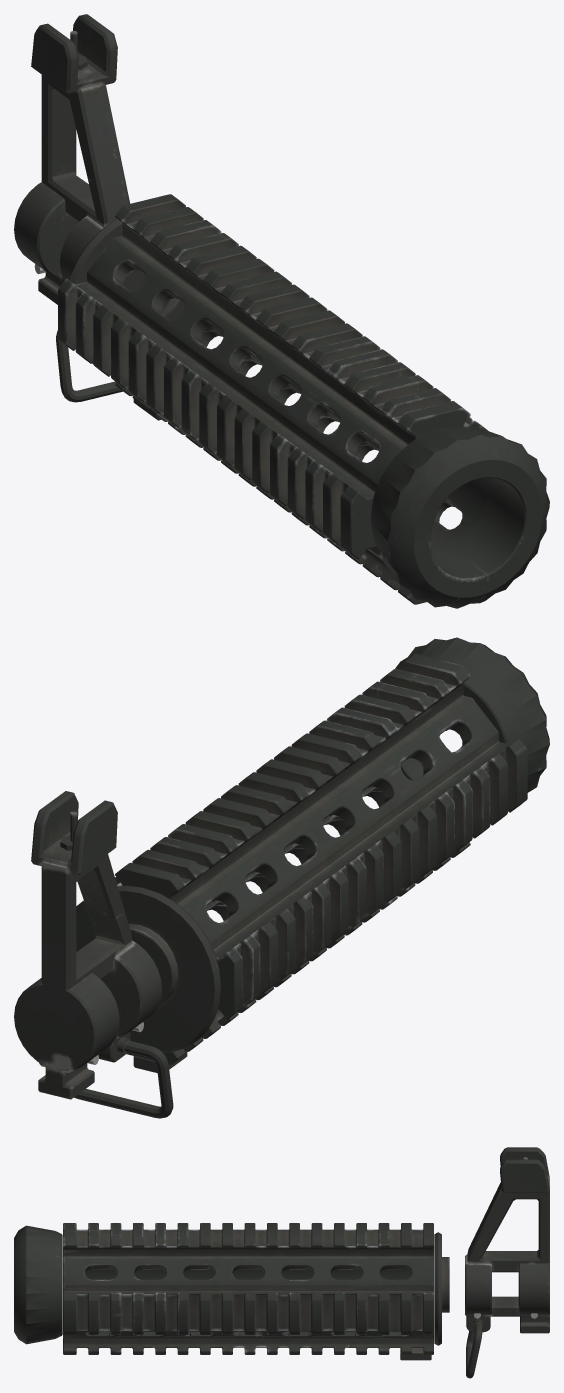
Rendered from guarda_mao_classico_m4.glb.
3 renders of one model, top to bottom at view 1: azimuth 30°, elevation 25°; view 2: azimuth 150°, elevation 25°; view 3: azimuth 270°, elevation 25°, orthographic. The views are drawn at different scales.
Parts seen in each view (by area): view 1: guarda_mao_classico_m4_guarda_mao_superior, guarda_mao_classico_m4_anel_delta, guarda_mao_classico_m4_base_massa, guarda_mao_classico_m4_guarda_mao_inferior, guarda_mao_classico_m4_tampa_guarda_mao, guarda_mao_classico_m4_zarelho_frontal; view 2: guarda_mao_classico_m4_guarda_mao_superior, guarda_mao_classico_m4_base_massa, guarda_mao_classico_m4_tampa_guarda_mao, guarda_mao_classico_m4_anel_delta, guarda_mao_classico_m4_guarda_mao_inferior, guarda_mao_classico_m4_zarelho_frontal; view 3: guarda_mao_classico_m4_guarda_mao_superior, guarda_mao_classico_m4_base_massa, guarda_mao_classico_m4_guarda_mao_inferior, guarda_mao_classico_m4_anel_delta, guarda_mao_classico_m4_tampa_guarda_mao, guarda_mao_classico_m4_zarelho_frontal.
Part boxes in pixels (bbox=[...]): guarda_mao_classico_m4_guarda_mao_superior: bbox=[58, 194, 488, 559]; guarda_mao_classico_m4_anel_delta: bbox=[371, 425, 549, 608]; guarda_mao_classico_m4_base_massa: bbox=[14, 14, 130, 304]; guarda_mao_classico_m4_guarda_mao_inferior: bbox=[115, 331, 472, 604]; guarda_mao_classico_m4_tampa_guarda_mao: bbox=[69, 219, 184, 363]; guarda_mao_classico_m4_zarelho_frontal: bbox=[56, 330, 122, 402]; guarda_mao_classico_m4_guarda_mao_superior: bbox=[76, 654, 527, 1019]; guarda_mao_classico_m4_base_massa: bbox=[14, 791, 161, 1099]; guarda_mao_classico_m4_tampa_guarda_mao: bbox=[76, 885, 220, 1052]; guarda_mao_classico_m4_anel_delta: bbox=[395, 637, 549, 792]; guarda_mao_classico_m4_guarda_mao_inferior: bbox=[126, 791, 470, 1072]; guarda_mao_classico_m4_zarelho_frontal: bbox=[74, 1037, 173, 1118]; guarda_mao_classico_m4_guarda_mao_superior: bbox=[63, 1223, 433, 1334]; guarda_mao_classico_m4_base_massa: bbox=[465, 1147, 549, 1333]; guarda_mao_classico_m4_guarda_mao_inferior: bbox=[63, 1331, 433, 1360]; guarda_mao_classico_m4_anel_delta: bbox=[14, 1225, 62, 1344]; guarda_mao_classico_m4_tampa_guarda_mao: bbox=[434, 1232, 449, 1345]; guarda_mao_classico_m4_zarelho_frontal: bbox=[466, 1319, 483, 1378].
Bounding box in the file's own units: 0.058 × 0.1042 × 0.24.
1 material, 1 textured.
